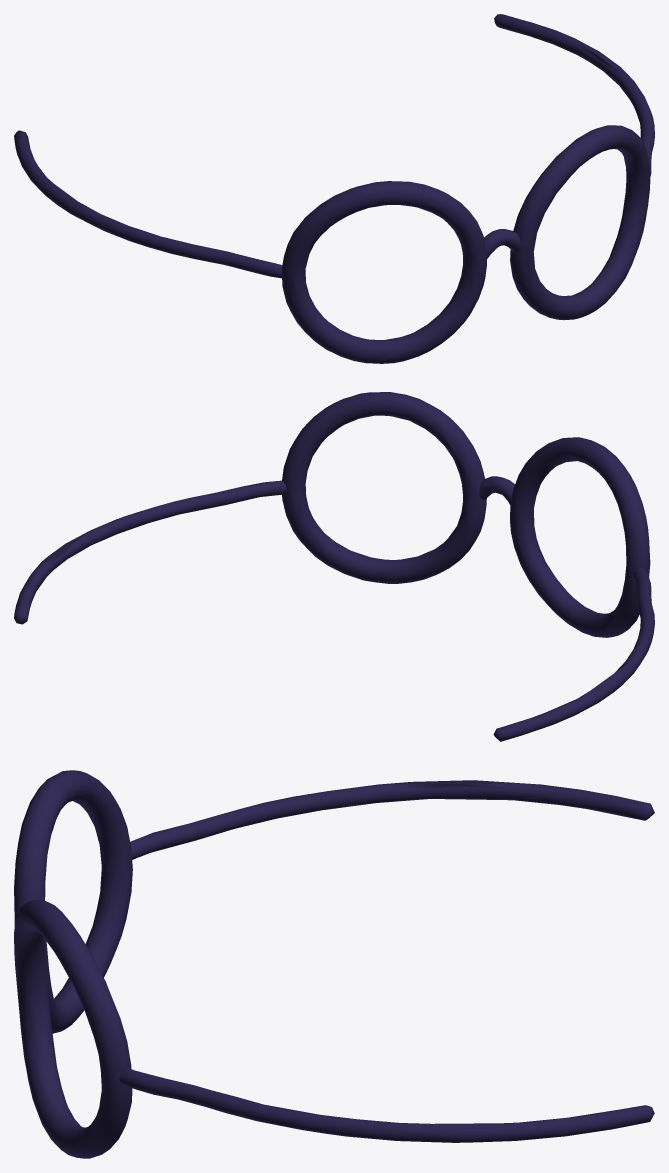
The model's file is face-nerdy.glb.
The picture shows the model from 3 angles, top to bottom: view 1: azimuth 30°, elevation 25°; view 2: azimuth 150°, elevation 25°; view 3: azimuth 270°, elevation 25°; orthographic projection. The views are drawn at different scales.
Parts seen in each view (by area): view 1: face-nerdy; view 2: face-nerdy; view 3: face-nerdy.
Part boxes in pixels (x1,y1,x2,y2): face-nerdy: [14, 14, 654, 363]; face-nerdy: [14, 392, 654, 741]; face-nerdy: [14, 770, 654, 1158].
Bounding box in the file's own units: 0.8597 × 0.2723 × 0.6619.
